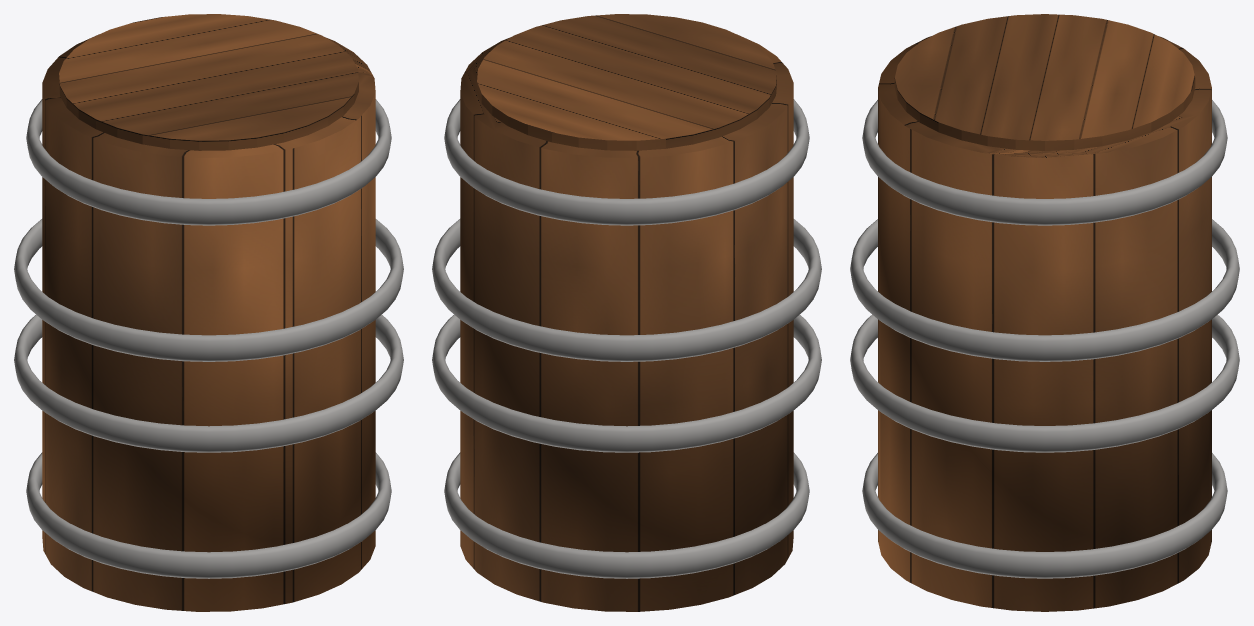
The model's file is meshgate_barrel.glb.
The picture shows the model from 3 angles, left to right: view 1: azimuth 30°, elevation 25°; view 2: azimuth 150°, elevation 25°; view 3: azimuth 270°, elevation 25°; orthographic projection.
Parts seen in each view (by area): view 1: barrel_body, lid, hoop_2, hoop_1, hoop_0, hoop_3; view 2: barrel_body, lid, hoop_2, hoop_1, hoop_0, hoop_3; view 3: barrel_body, lid, hoop_2, hoop_1, hoop_3, hoop_0.
Part boxes in pixels (left/top/right/bottom): barrel_body: left=42, top=34, right=375, bottom=611; lid: left=59, top=14, right=358, bottom=150; hoop_2: left=14, top=219, right=403, bottom=361; hoop_1: left=14, top=314, right=403, bottom=452; hoop_0: left=26, top=452, right=391, bottom=578; hoop_3: left=26, top=99, right=391, bottom=225; barrel_body: left=460, top=34, right=793, bottom=611; lid: left=477, top=14, right=776, bottom=150; hoop_2: left=432, top=219, right=821, bottom=361; hoop_1: left=432, top=314, right=821, bottom=452; hoop_0: left=444, top=452, right=809, bottom=578; hoop_3: left=444, top=99, right=809, bottom=225; barrel_body: left=878, top=36, right=1211, bottom=611; lid: left=894, top=14, right=1195, bottom=150; hoop_2: left=850, top=219, right=1239, bottom=361; hoop_1: left=850, top=314, right=1239, bottom=452; hoop_3: left=862, top=100, right=1227, bottom=225; hoop_0: left=862, top=453, right=1227, bottom=578.
Size of the model in its own units: 0.7005 by 0.92 by 0.7005.
2 materials, 1 textured.
